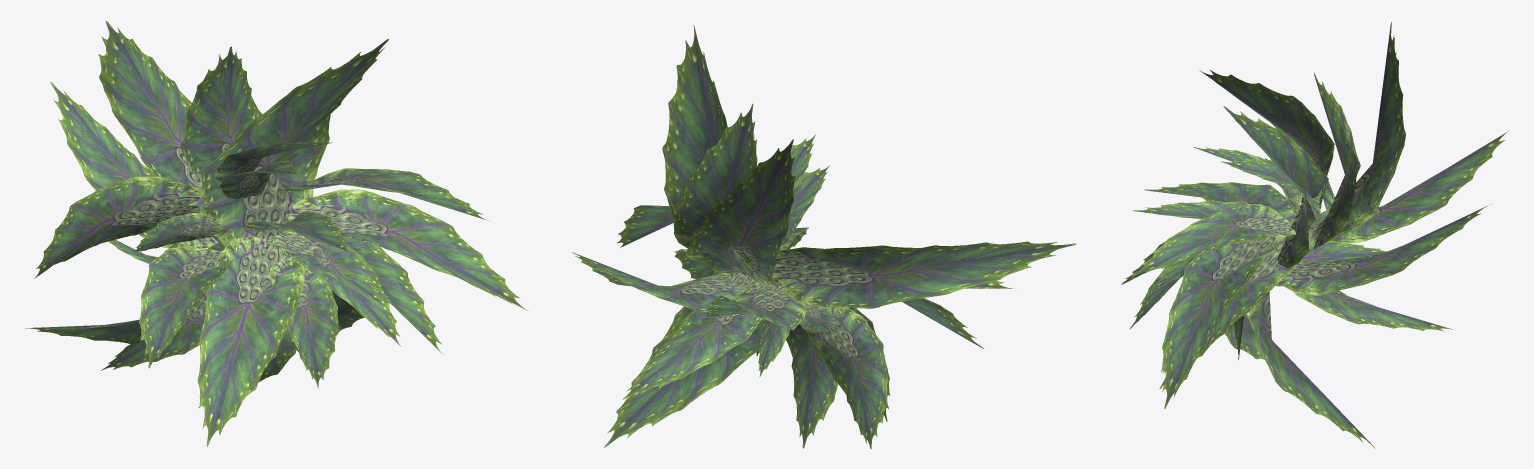
Rendered from Airplant1.fbx.
3 views of the same model, side by side, from view 1: azimuth 30°, elevation 25°; view 2: azimuth 150°, elevation 25°; view 3: azimuth 270°, elevation 25° (orthographic). The views are drawn at different scales.
Parts seen in each view (by area): view 1: Broadleaf1.015; view 2: Broadleaf1.015; view 3: Broadleaf1.015.
Boxes of the visible parts, <box> form: Broadleaf1.015: <box>25,21,528,446</box>; Broadleaf1.015: <box>572,25,1076,448</box>; Broadleaf1.015: <box>1121,22,1508,448</box>.
Bounding box in the file's own units: 1588 × 1167 × 1217.
